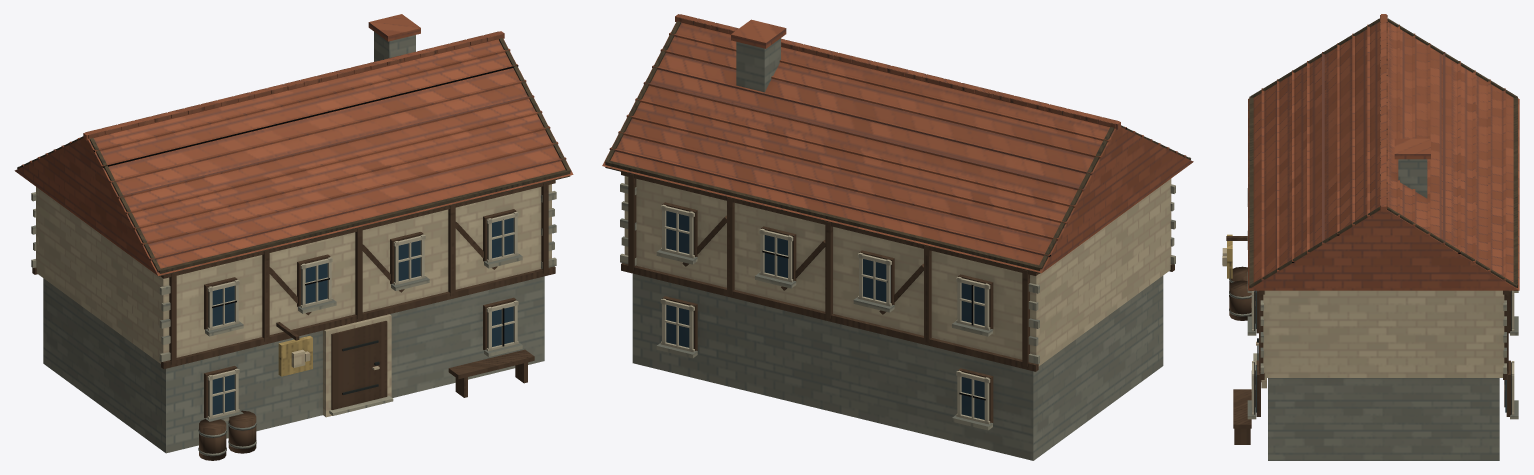
File: inn.glb
3 views of the same model, side by side, from view 1: azimuth 30°, elevation 25°; view 2: azimuth 150°, elevation 25°; view 3: azimuth 270°, elevation 25° (orthographic). The views are drawn at different scales.
Parts seen in each view (by area): view 1: inn; view 2: inn; view 3: inn.
Part boxes in pixels (x1,y1,x2,y2): inn: (14,14,573,460); inn: (602,14,1193,460); inn: (1222,14,1519,460).
Bounding box in the file's own units: 12.58 × 8.56 × 8.2.
1 material, 1 textured.
